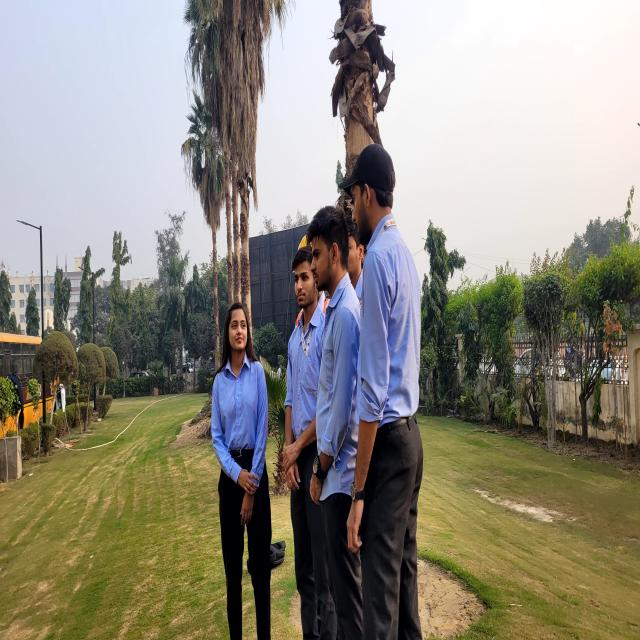unsafe: (340, 139, 427, 640), (304, 200, 364, 640), (210, 299, 275, 640), (286, 249, 334, 640)
